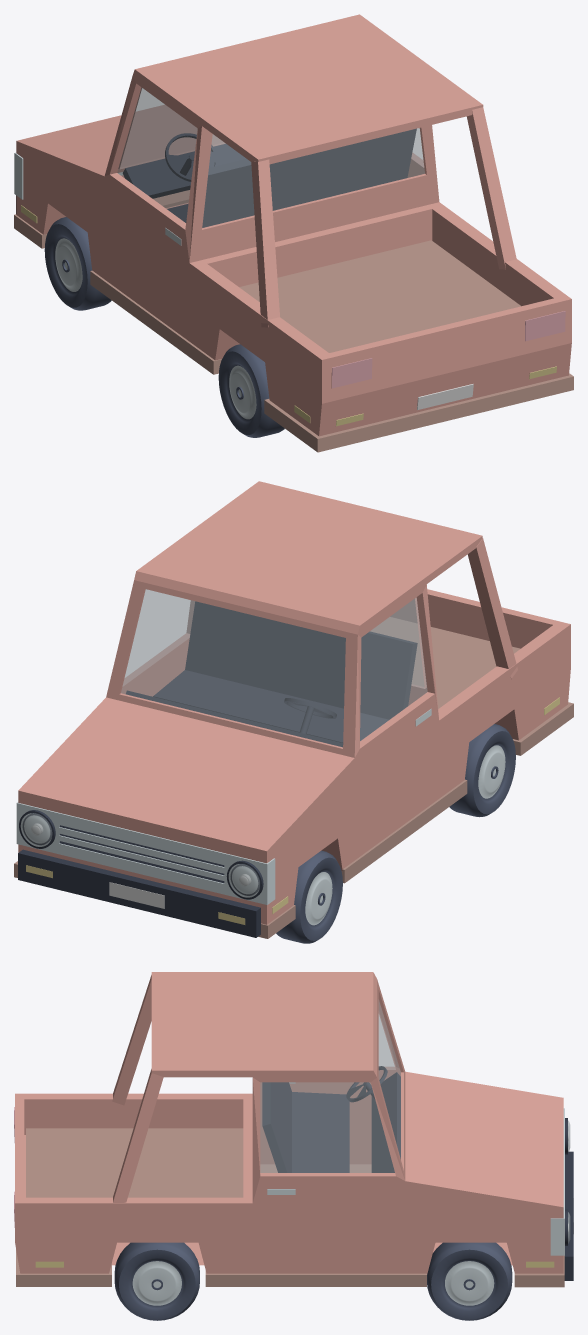
The model's file is CartoonCar.fbx.
The picture shows the model from 3 angles, top to bottom: view 1: azimuth 30°, elevation 25°; view 2: azimuth 150°, elevation 25°; view 3: azimuth 270°, elevation 25°; orthographic projection. The views are drawn at different scales.
Visible parts, largest first — view 1: Cube_2_3, Cube, Cube_13, Cube_1, Cylinder_1_2, Cylinder_7, Cube_1_2, Cube_2_2, Cube_15, Cube_2, Cube_3, Cube_12 (+3 smaller); view 2: Cube_2_3, Cube_13, Cube_3_2, Cube_4, Cube_14, Cube, Cylinder_1_2, Cylinder_7, Cube_1_2, Cube_2, Cylinder_2_3, Cylinder_2 (+6 smaller); view 3: Cube_2_3, Cube, Cylinder_5, Cylinder_6, Cube_14, Cube_2, Cube_13, Cube_15, Cube_2_2, Cube_1_2, Cube_1, Cube_4 (+2 smaller).
Boxes of the visible parts, x1=… form: Cube_2_3: x1=16, y1=14, x2=571, y2=436; Cube: x1=239, y1=240, x2=520, y2=352; Cube_13: x1=186, y1=128, x2=416, y2=227; Cube_1: x1=264, y1=373, x2=573, y2=452; Cylinder_1_2: x1=218, y1=344, x2=284, y2=437; Cylinder_7: x1=44, y1=217, x2=111, y2=310; Cube_1_2: x1=251, y1=159, x2=279, y2=327; Cube_2_2: x1=466, y1=107, x2=516, y2=269; Cube_15: x1=123, y1=144, x2=246, y2=198; Cube_2: x1=90, y1=270, x2=221, y2=374; Cube_3: x1=14, y1=190, x2=189, y2=248; Cube_12: x1=331, y1=358, x2=372, y2=388; Cube_2_3: x1=18, y1=481, x2=570, y2=924; Cube_13: x1=185, y1=601, x2=417, y2=719; Cube_3_2: x1=16, y1=802, x2=275, y2=904; Cube_4: x1=18, y1=849, x2=260, y2=937; Cube_14: x1=153, y1=670, x2=388, y2=742; Cube: x1=370, y1=617, x2=520, y2=708; Cylinder_1_2: x1=449, y1=724, x2=515, y2=817; Cylinder_7: x1=276, y1=850, x2=342, y2=943; Cube_1_2: x1=467, y1=538, x2=517, y2=678; Cube_2: x1=341, y1=779, x2=467, y2=883; Cylinder_2_3: x1=226, y1=860, x2=263, y2=899; Cylinder_2: x1=19, y1=810, x2=55, y2=848; Cube_2_3: x1=15, y1=972, x2=563, y2=1274; Cube: x1=26, y1=1128, x2=243, y2=1197; Cylinder_5: x1=114, y1=1242, x2=199, y2=1320; Cylinder_6: x1=427, y1=1242, x2=512, y2=1320; Cube_14: x1=292, y1=1092, x2=349, y2=1172; Cube_2: x1=205, y1=1164, x2=426, y2=1286; Cube_13: x1=262, y1=1082, x2=291, y2=1172; Cube_15: x1=371, y1=1072, x2=400, y2=1172; Cube_2_2: x1=113, y1=1069, x2=163, y2=1202; Cube_1_2: x1=112, y1=975, x2=151, y2=1105; Cube_1: x1=16, y1=1249, x2=111, y2=1286; Cube_4: x1=564, y1=1151, x2=573, y2=1280.
Size of the model in its own units: 155 by 158 by 324.
